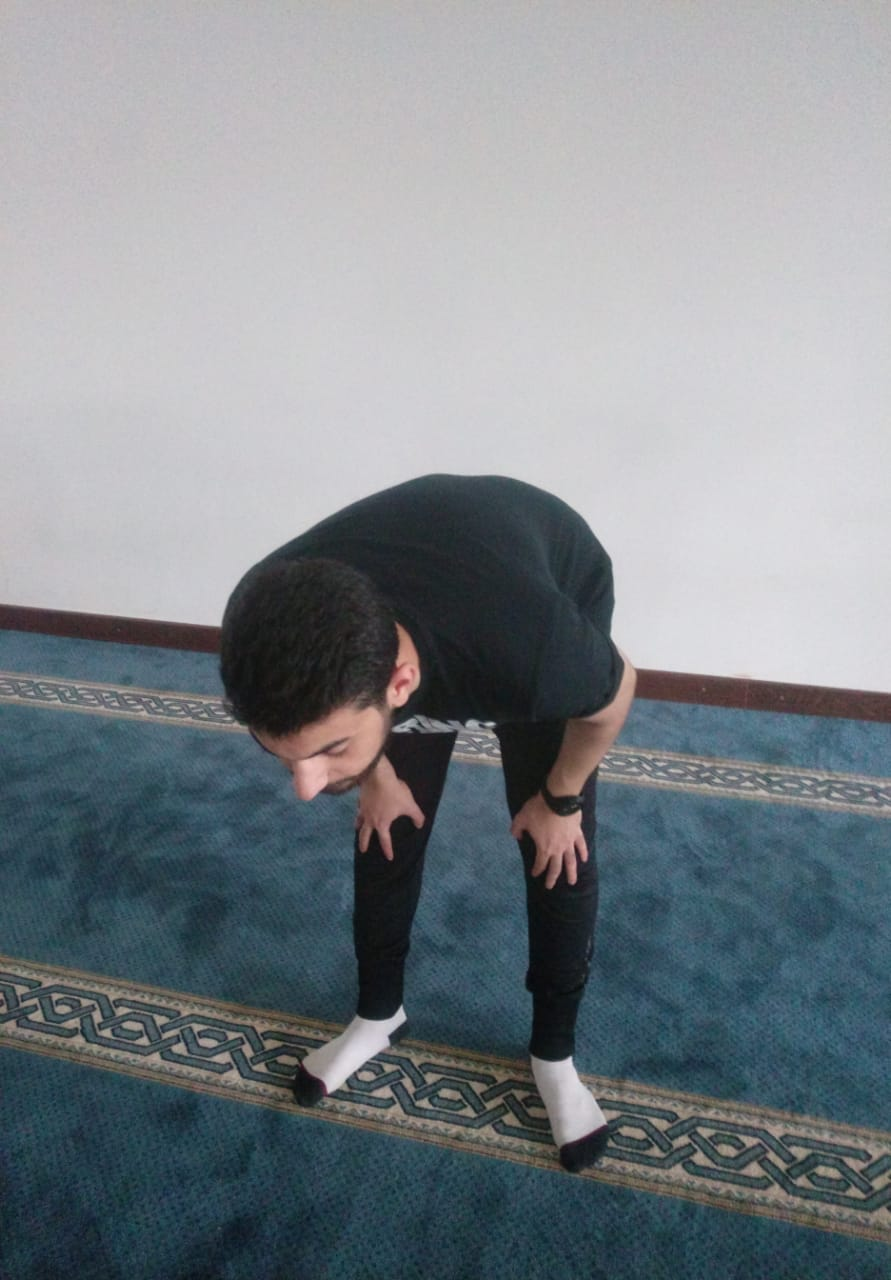ruku: (133, 320, 788, 1261)
